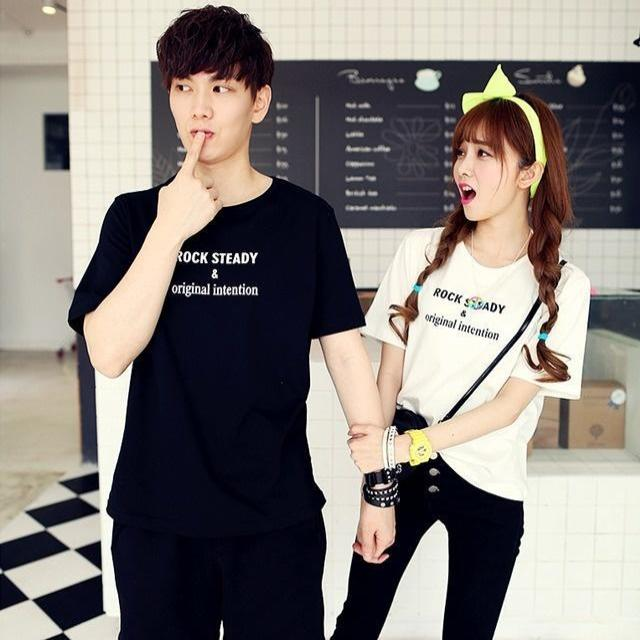short-sleeve-top: (76, 175, 365, 549), (392, 217, 580, 498)
